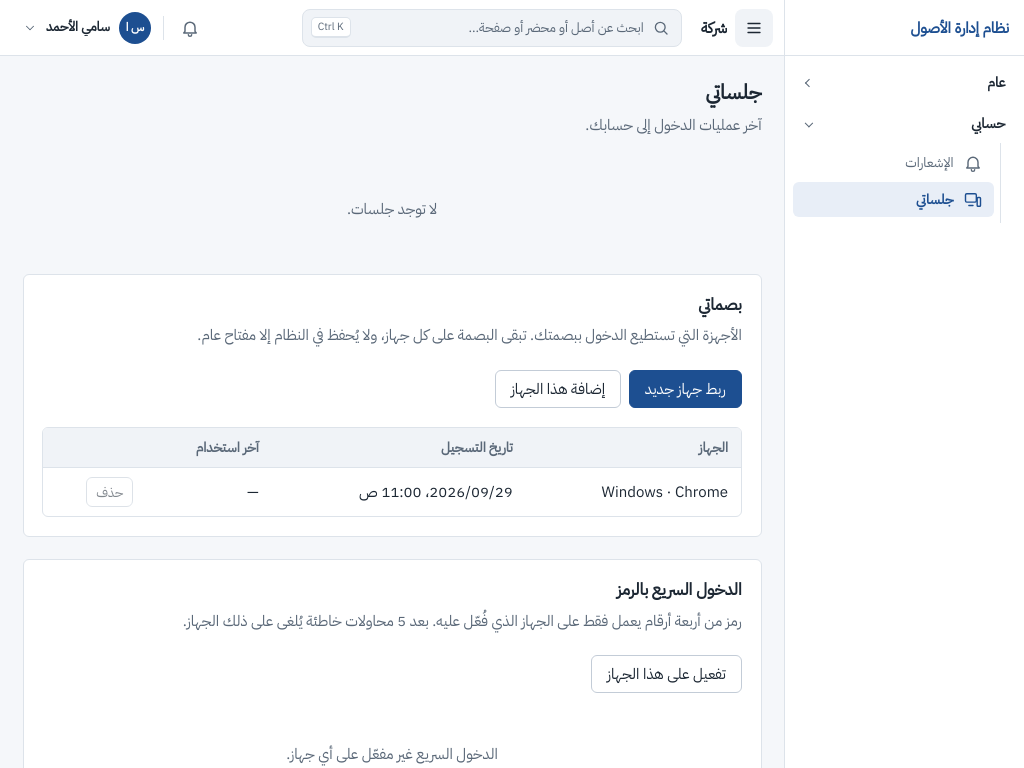
Test: My fingerprints (account page) › shows a one-time code to link a new device, with the time left
Step 1. Click the button "ربط جهاز جديد" → (685, 389), box [629,370,742,408]
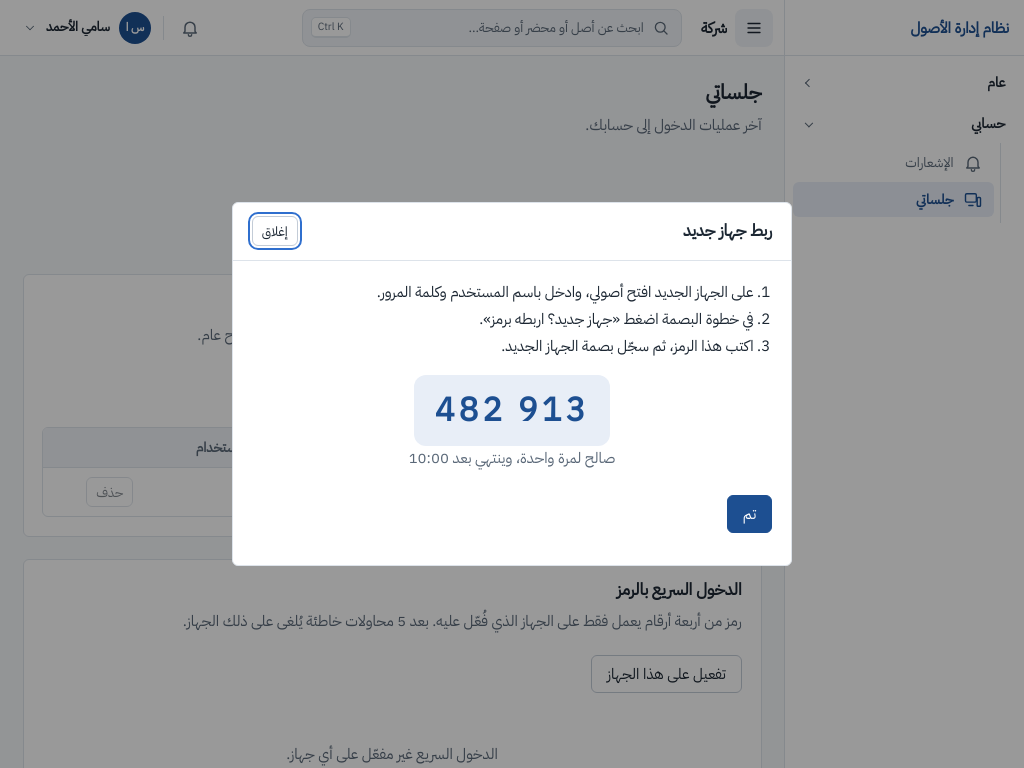
Expected: the text "482 913" is shown, [435,386,589,436]
Expected: the text "صالح لمرة واحدة، وينتهي بعد 10:00" is shown, [409,447,615,469]
